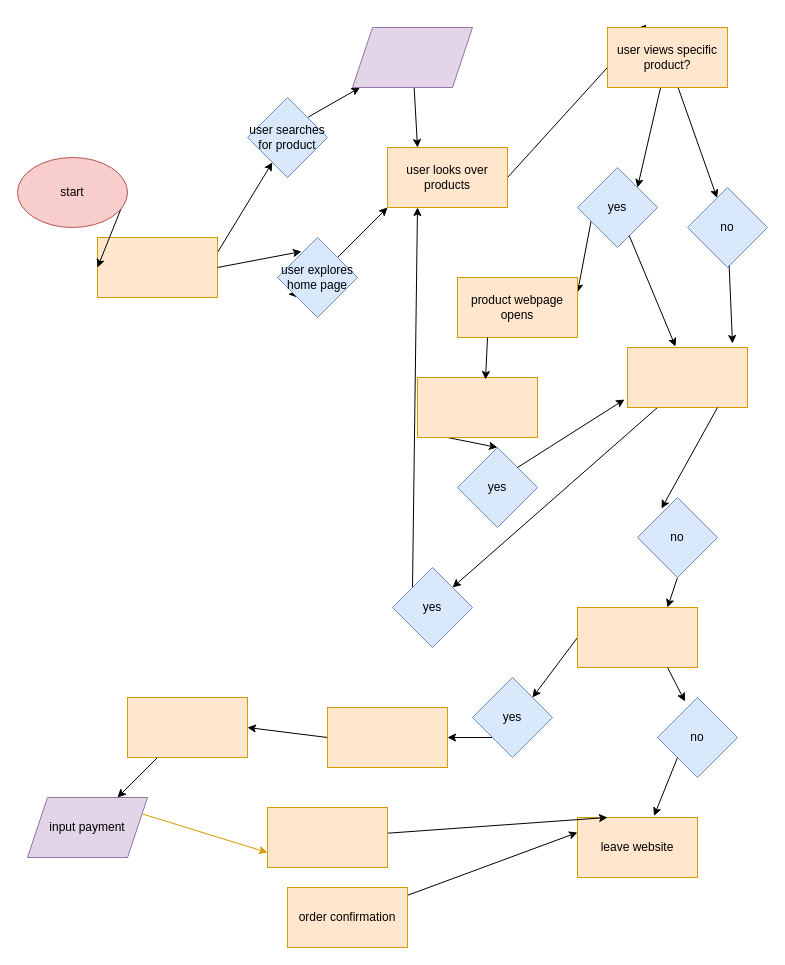
Image size: 785x965. Some labels were removed from this diagram. The shapes that lost their labels are listed below. From the top down, each one's centre as x and y in pixels, then its label:
At point 412,57: "user provides input".
At point 157,267: "user enters website".
At point 687,377: "continue shopping?".
At point 477,407: "viewer adds to cart?".
At point 637,637: "checkout?".
At point 187,727: "view payment".
At point 387,737: "view cart screen".
At point 327,837: "pay".
